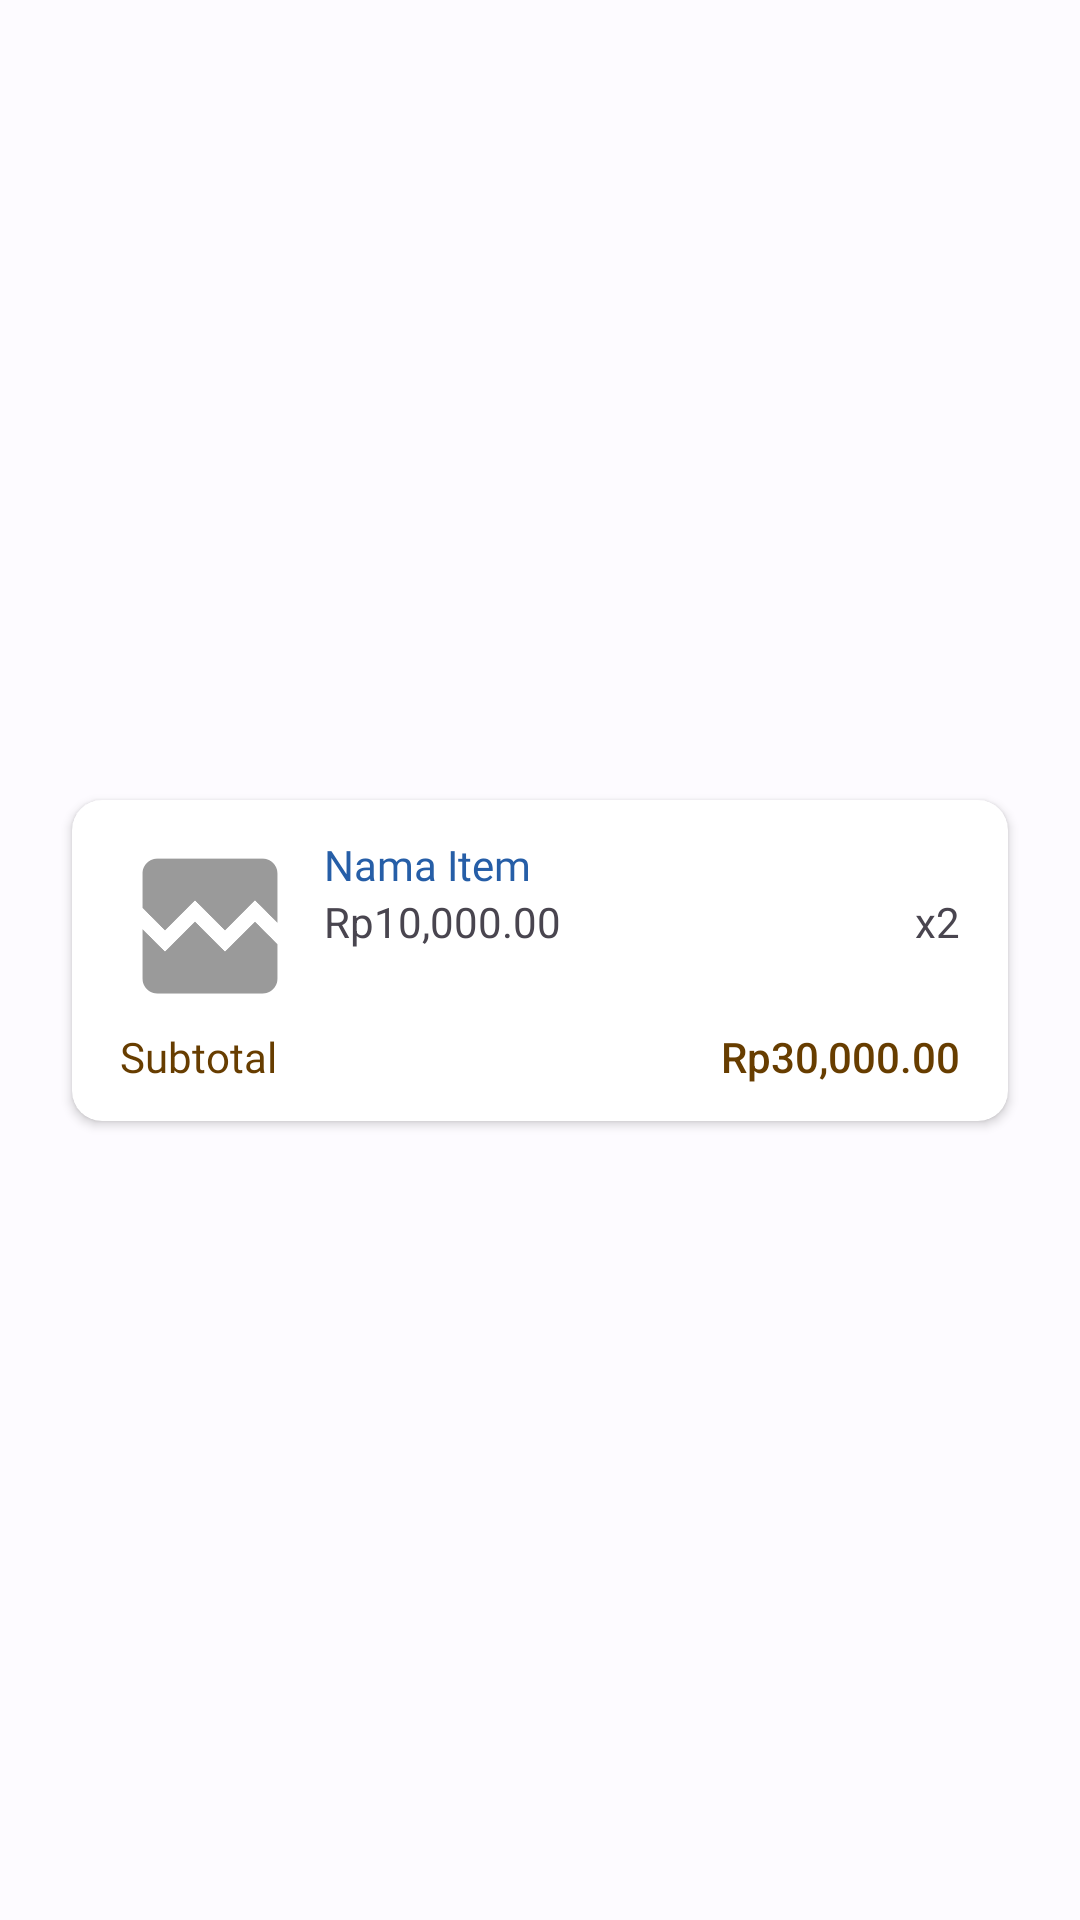

Screen size 1080px×1920px. Icon name, then its box in pixels as (x1, y1, x2, y2):
broken: (142, 858, 278, 994)
